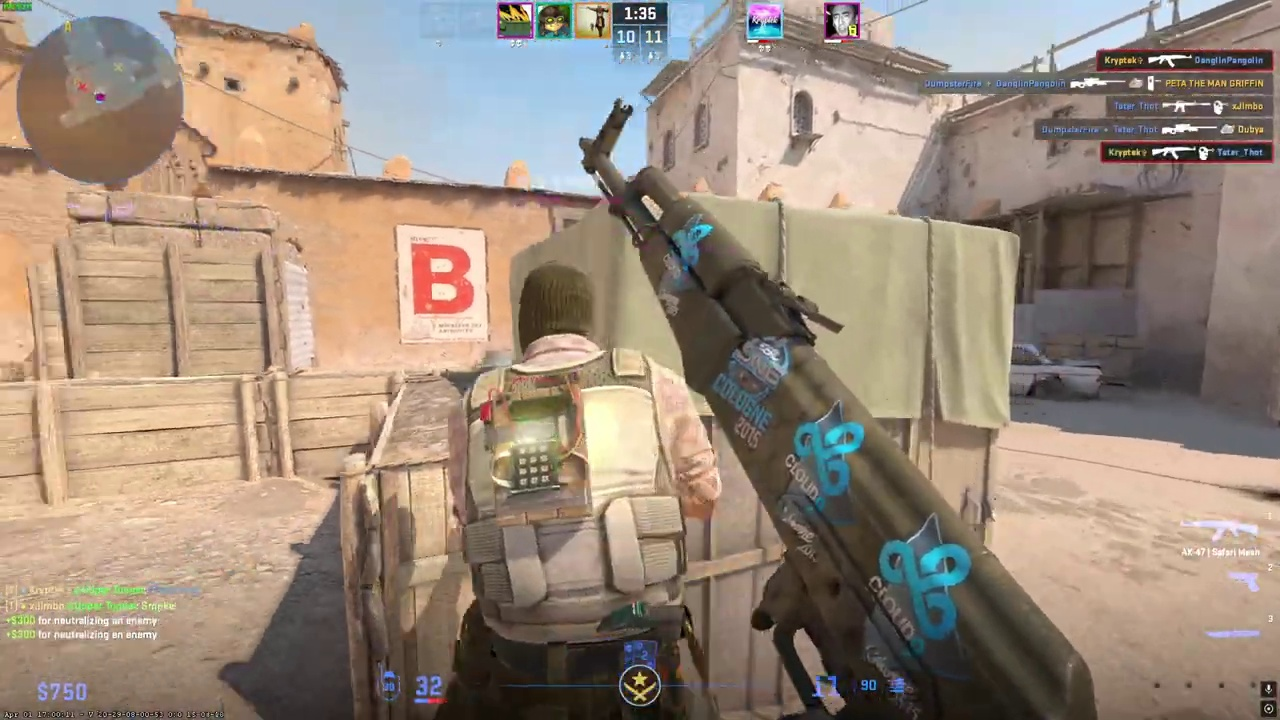Terrorist: (450, 259, 722, 720)
